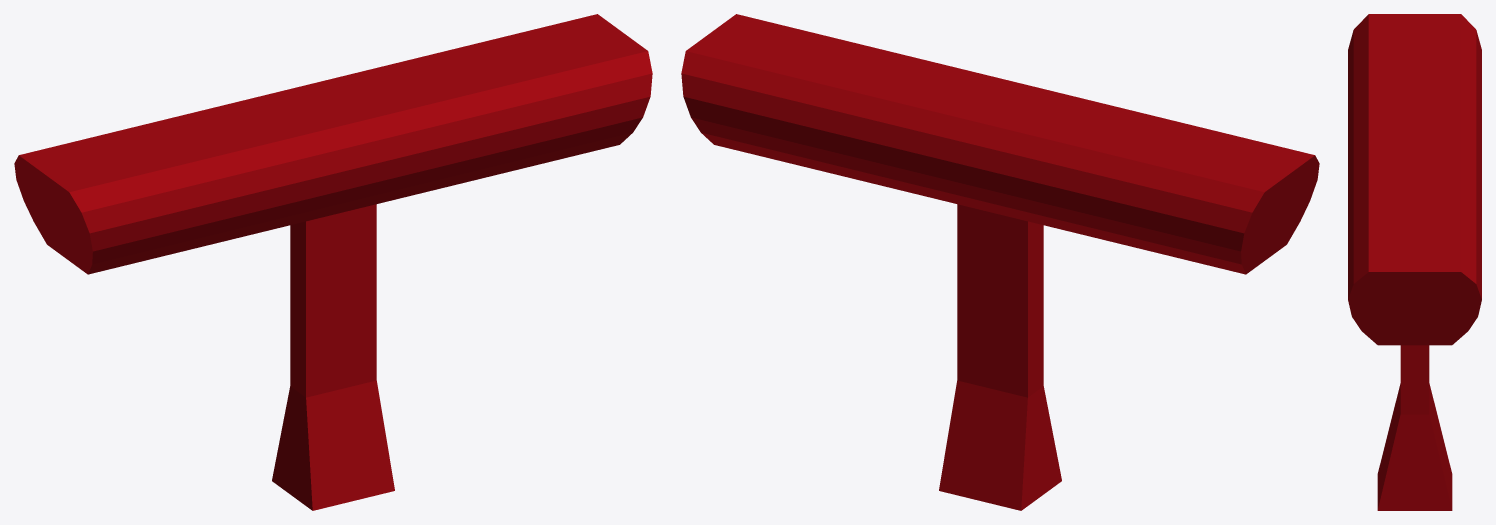
Rendered from InteractModuleSlider.fbx.
3 renders of one model, left to right at view 1: azimuth 30°, elevation 25°; view 2: azimuth 150°, elevation 25°; view 3: azimuth 270°, elevation 25°, orthographic. The views are drawn at different scales.
Parts seen in each view (by area): view 1: InteractModuleSlider; view 2: InteractModuleSlider; view 3: InteractModuleSlider.
Part boxes in pixels (x1,y1,x2,y2): InteractModuleSlider: (14, 14, 652, 510); InteractModuleSlider: (681, 14, 1319, 510); InteractModuleSlider: (1348, 14, 1481, 510).
Bounding box in the file's own units: 12.88 × 8.14 × 2.83.
